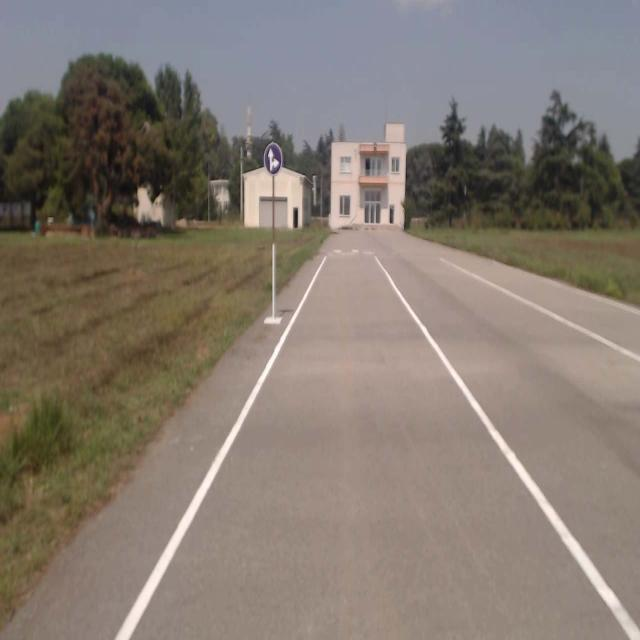ilerisag: (262, 144, 282, 176)
